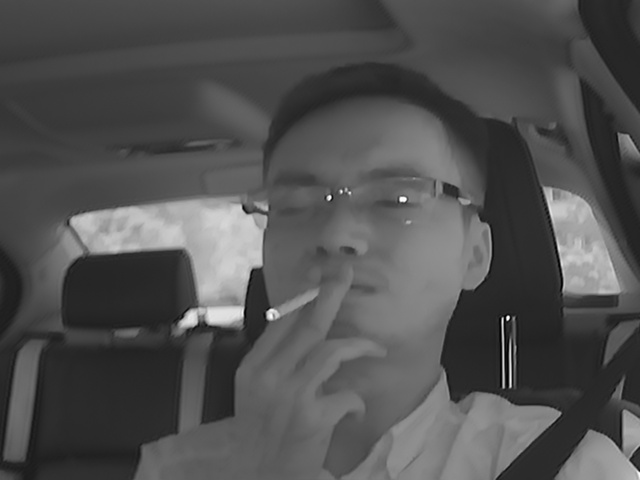hand: (248, 266, 393, 429)
